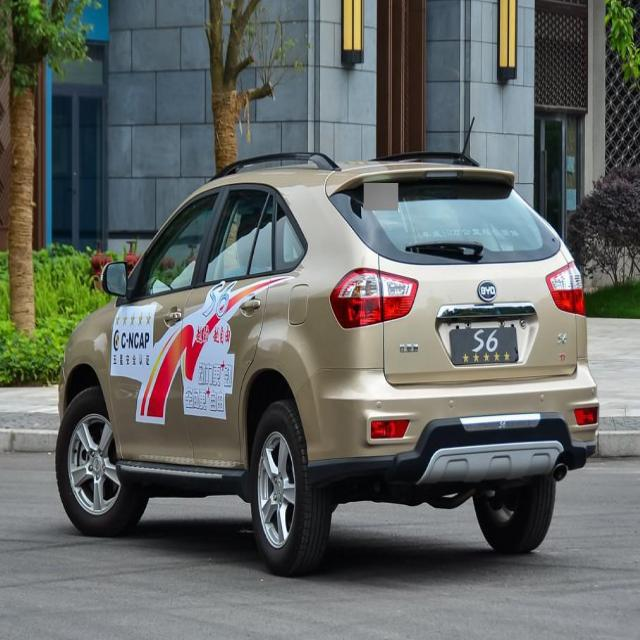back_glass: (327, 170, 562, 262)
back_left_side_light: (328, 266, 419, 331)
back_right_side_light: (544, 257, 589, 318)
door: (182, 189, 276, 473)
front_left_side_door: (106, 178, 229, 477)
front_left_side_mirror: (100, 256, 129, 302)
rear_bumper: (292, 362, 600, 482)
wheel: (56, 386, 151, 534), (248, 401, 326, 568)
